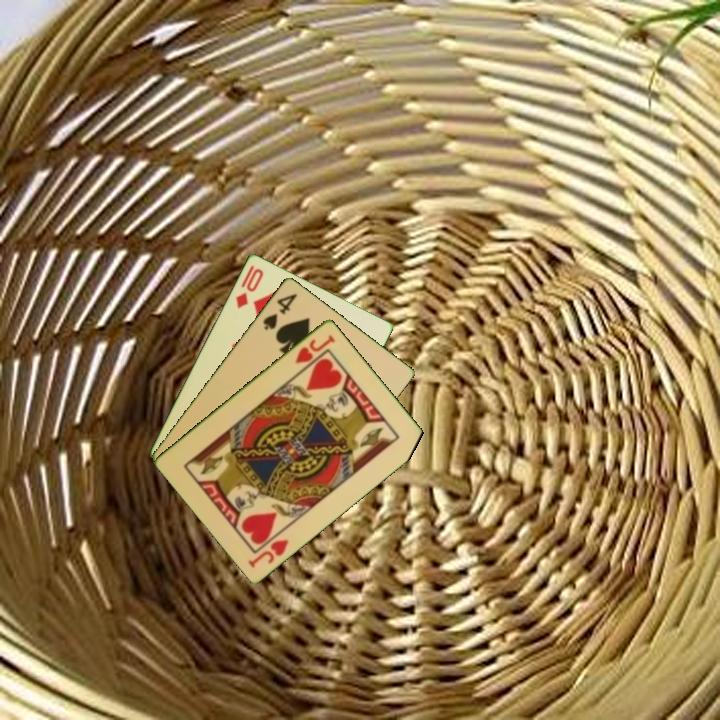10d: (232, 261, 266, 311)
4s: (259, 289, 300, 332)
Jh: (291, 331, 338, 366), (244, 535, 291, 570)
